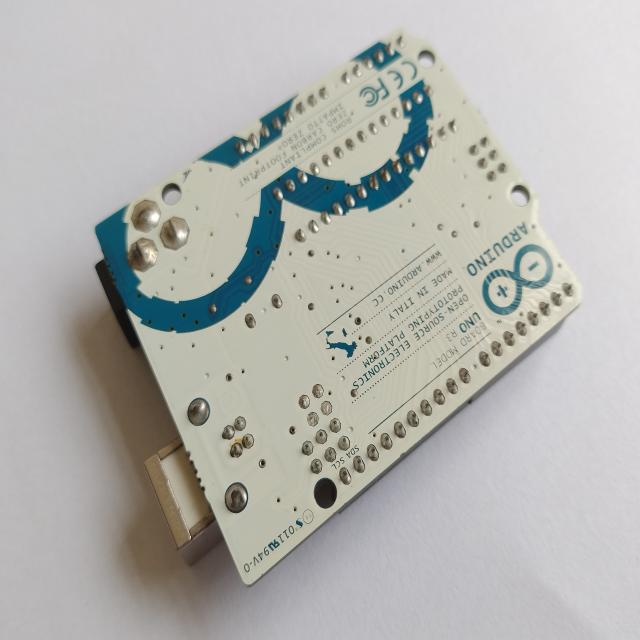arduino: (92, 22, 589, 607)
